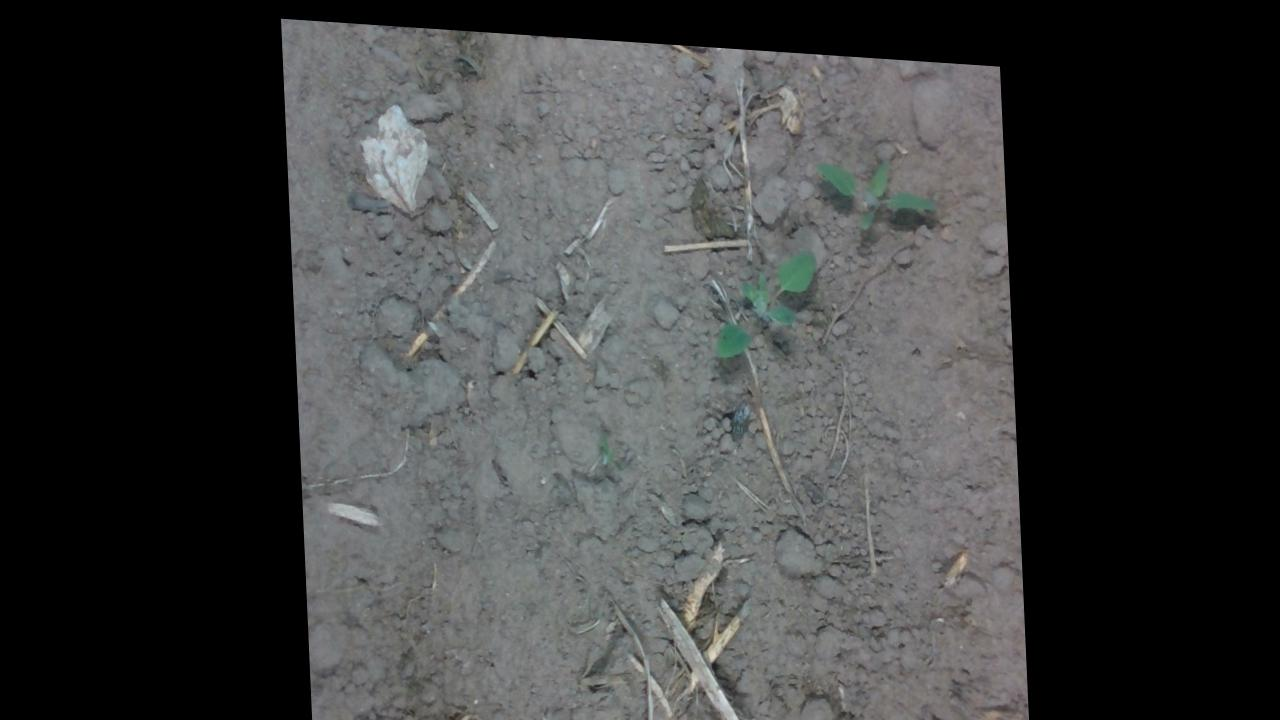weed: (809, 138, 942, 223)
